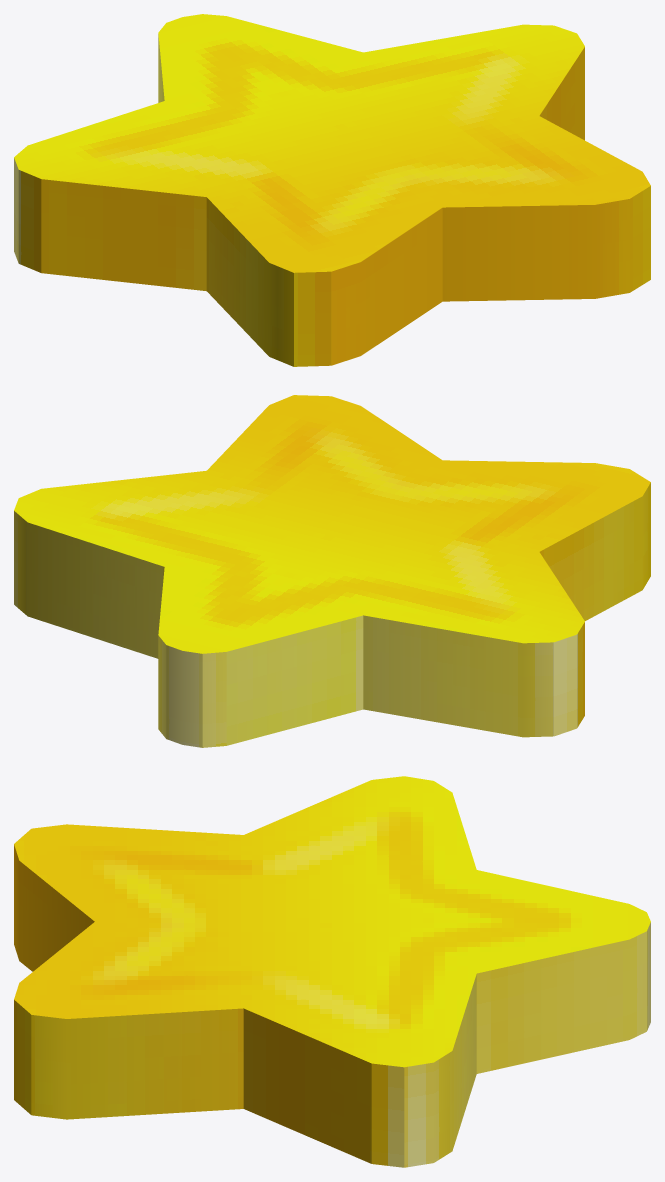
The model's file is items_star_n.FBX.
3 renders of one model, top to bottom at view 1: azimuth 30°, elevation 25°; view 2: azimuth 150°, elevation 25°; view 3: azimuth 270°, elevation 25°, orthographic. The views are drawn at different scales.
Visible parts, largest first — view 1: items_star_n; view 2: items_star_n; view 3: items_star_n.
Boxes of the visible parts, bbox=[...] form: items_star_n: bbox=[14, 14, 650, 366]; items_star_n: bbox=[14, 395, 650, 747]; items_star_n: bbox=[14, 776, 650, 1167].
Bounding box in the file's own units: 52.12 × 8.39 × 48.19.
